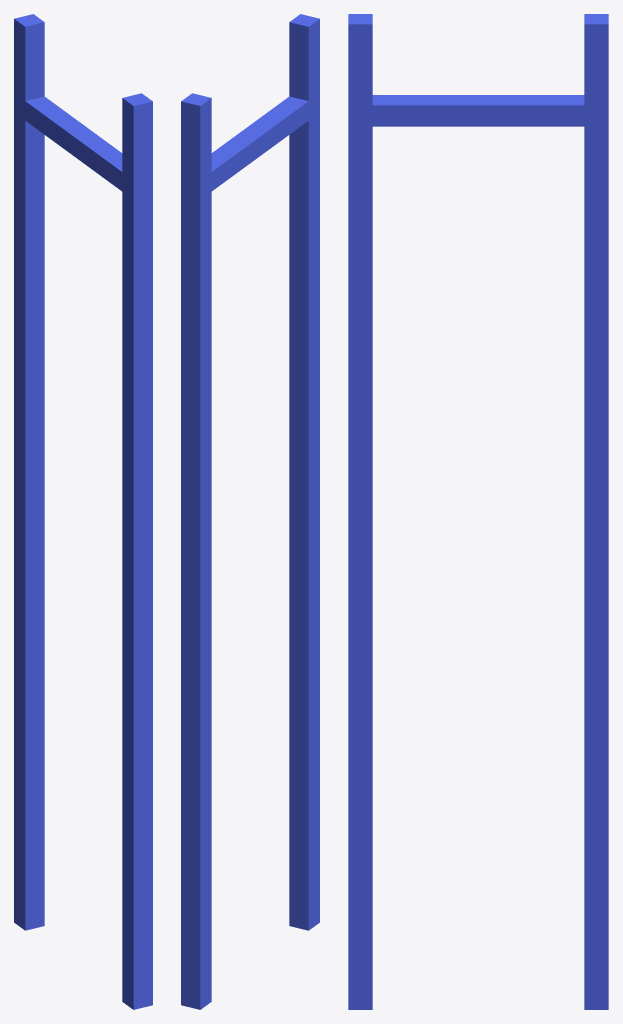
File: MetalSupport.fbx
3 views of the same model, side by side, from view 1: azimuth 30°, elevation 25°; view 2: azimuth 150°, elevation 25°; view 3: azimuth 270°, elevation 25° (orthographic). The views are drawn at different scales.
Parts seen in each view (by area): view 1: MetalBar_01; view 2: MetalBar_01; view 3: MetalBar_01.
Boxes of the visible parts, x1,y1,x2,y2 form: MetalBar_01: (14, 14, 152, 1009); MetalBar_01: (181, 14, 319, 1009); MetalBar_01: (348, 14, 608, 1009).
Size of the model in its own units: 0.1764 by 7.88 by 1.89.
